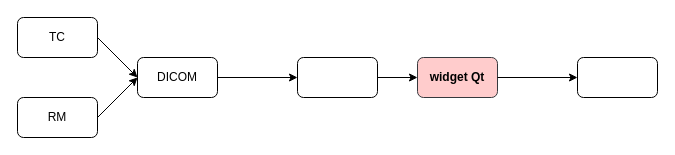
Some shapes in this 675 by 155 pixel diagram are drawn without their labels. Each missing label, with the centre of its shape:
"Display" goes at pixel 617 77.
"VTK" goes at pixel 337 77.
